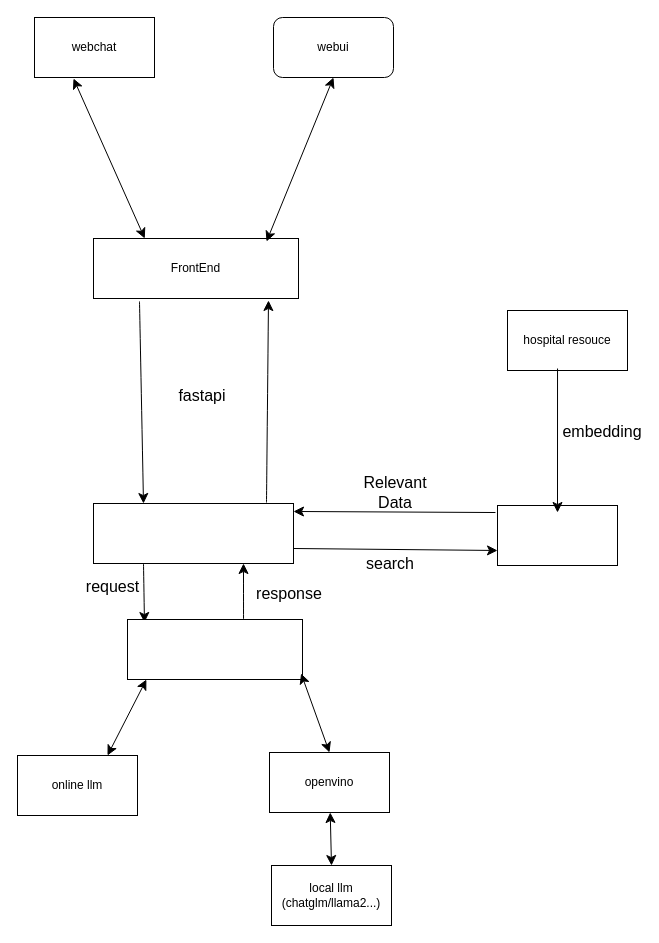
Some shapes in this 659 by 943 pixel diagram are drawn without their labels. The shapes that lost their labels are listed below. From the top down, each one's centre as x and y in pixels, then its label:
At (x=193, y=533): "chatBot Core".
At (x=557, y=535): "vector database".
At (x=214, y=649): "fastchat".
